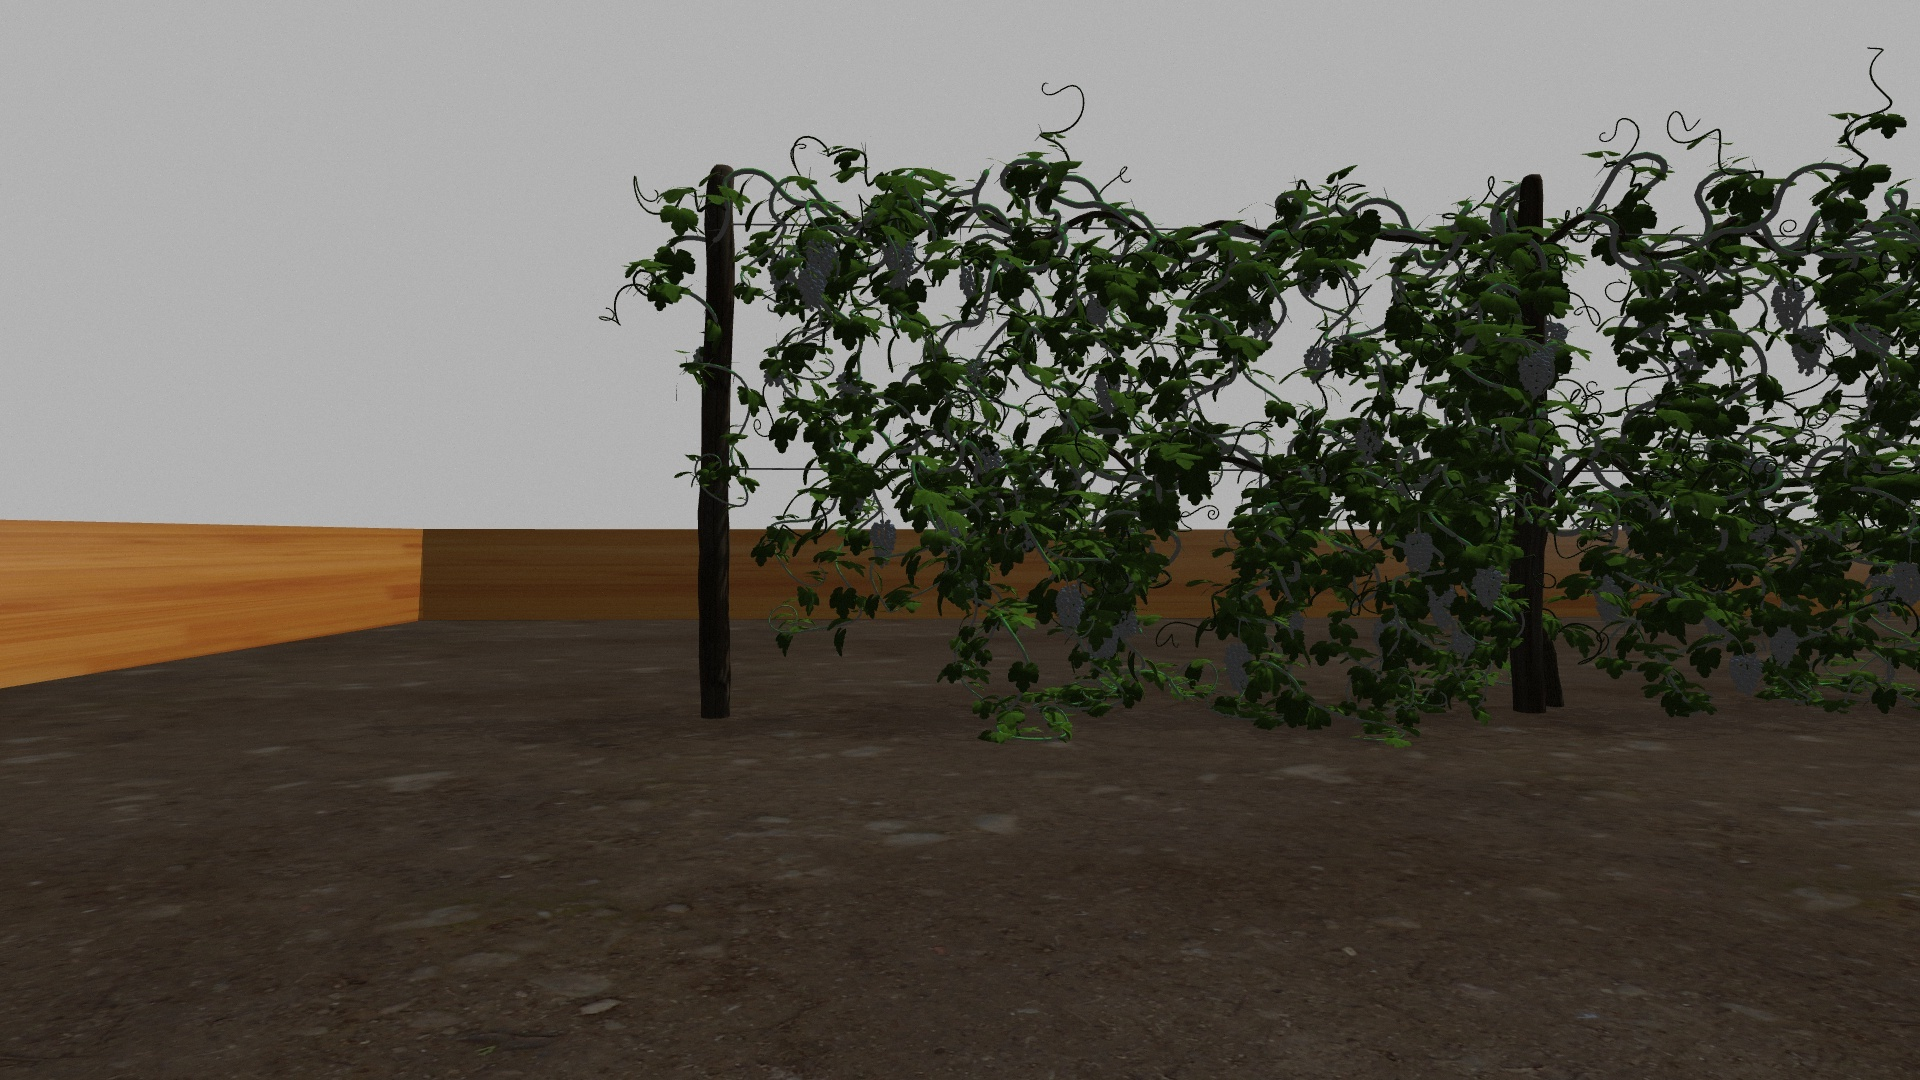grape: (1516, 348, 1555, 398), (1771, 280, 1805, 332), (1785, 328, 1824, 375), (885, 235, 916, 287), (1054, 584, 1085, 637), (1222, 641, 1254, 694), (1727, 651, 1762, 698), (1766, 628, 1799, 671), (1592, 578, 1623, 622), (1472, 567, 1503, 611), (1427, 585, 1455, 633), (1402, 531, 1433, 572), (1849, 323, 1891, 353), (796, 266, 825, 310), (1354, 419, 1383, 463), (804, 235, 837, 273), (870, 521, 898, 563), (1869, 576, 1894, 618), (1892, 562, 1916, 605), (1088, 630, 1120, 662), (1303, 344, 1331, 380), (959, 268, 984, 302), (973, 447, 1001, 476), (1117, 611, 1139, 640), (1085, 301, 1106, 328), (1451, 634, 1476, 654)
